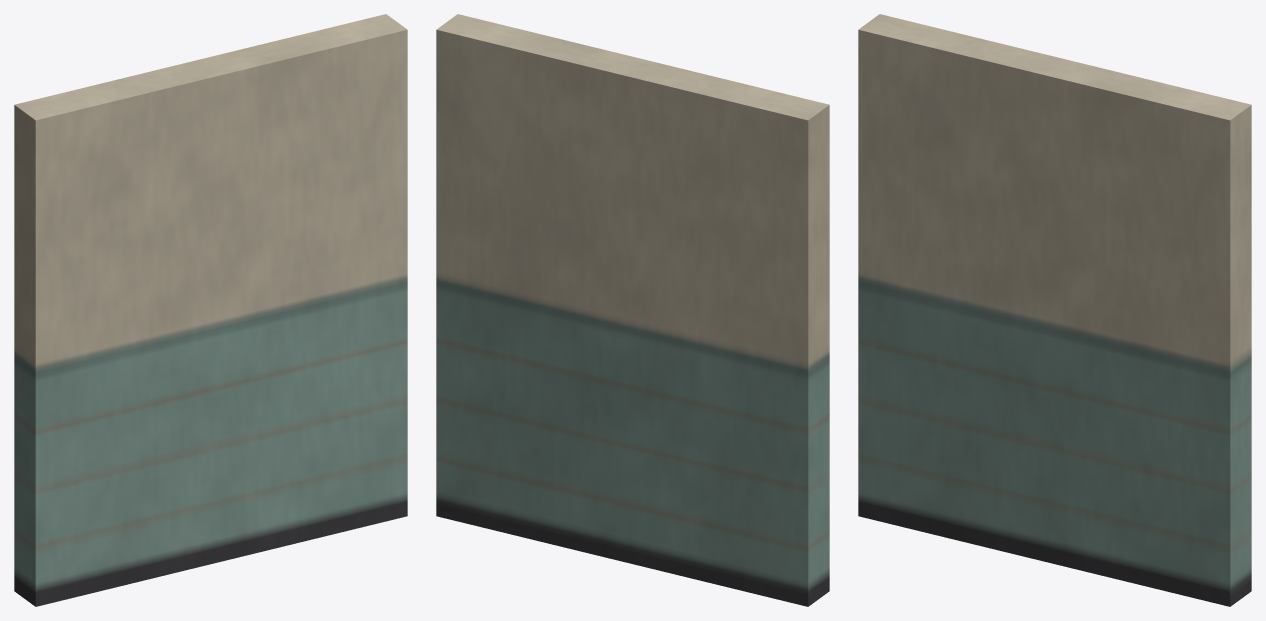
Rendered from Wall_2m.fbx.
The picture shows the model from 3 angles, left to right: view 1: azimuth 30°, elevation 25°; view 2: azimuth 150°, elevation 25°; view 3: azimuth 330°, elevation 25°; orthographic projection.
Visible parts, largest first — view 1: Wall_2m; view 2: Wall_2m; view 3: Wall_2m.
Boxes of the visible parts, <box> form: Wall_2m: <box>14,14,407,606</box>; Wall_2m: <box>436,14,829,606</box>; Wall_2m: <box>858,14,1251,606</box>.
Bounding box in the file's own units: 2 × 2.5 × 0.2.
1 material, 1 textured.
